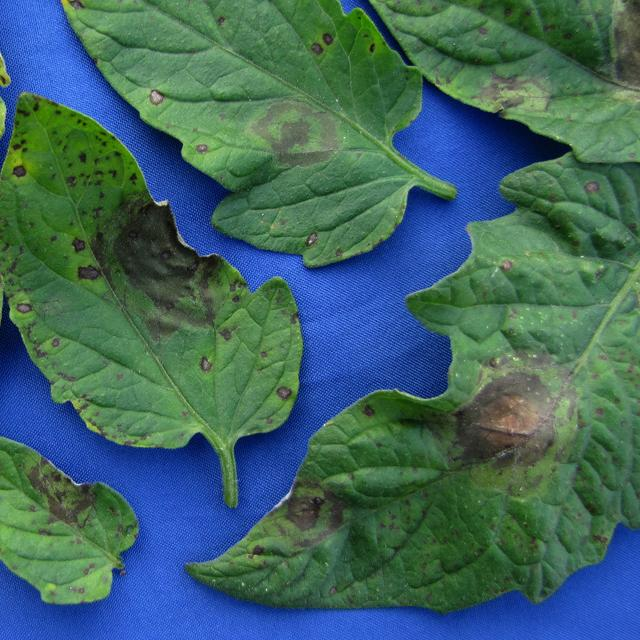Tomato leaf late blight: (174, 171, 640, 640), (0, 66, 316, 493), (23, 0, 431, 251), (333, 0, 640, 151), (0, 0, 17, 496)
